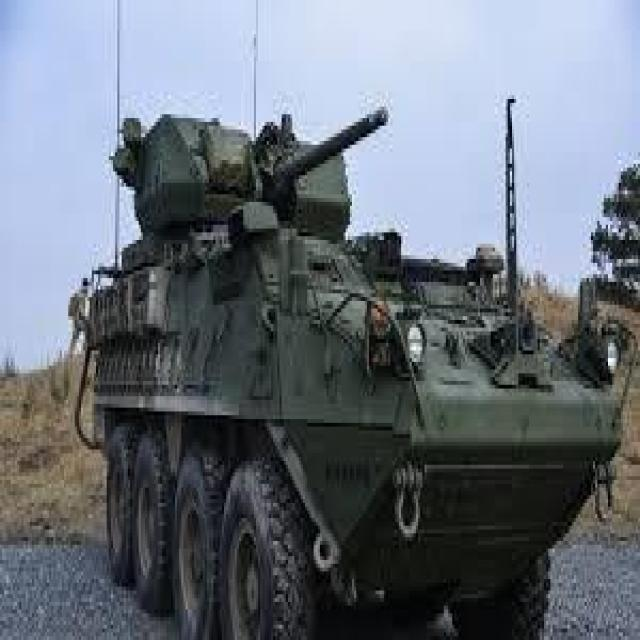Tanks: (73, 86, 627, 623)
